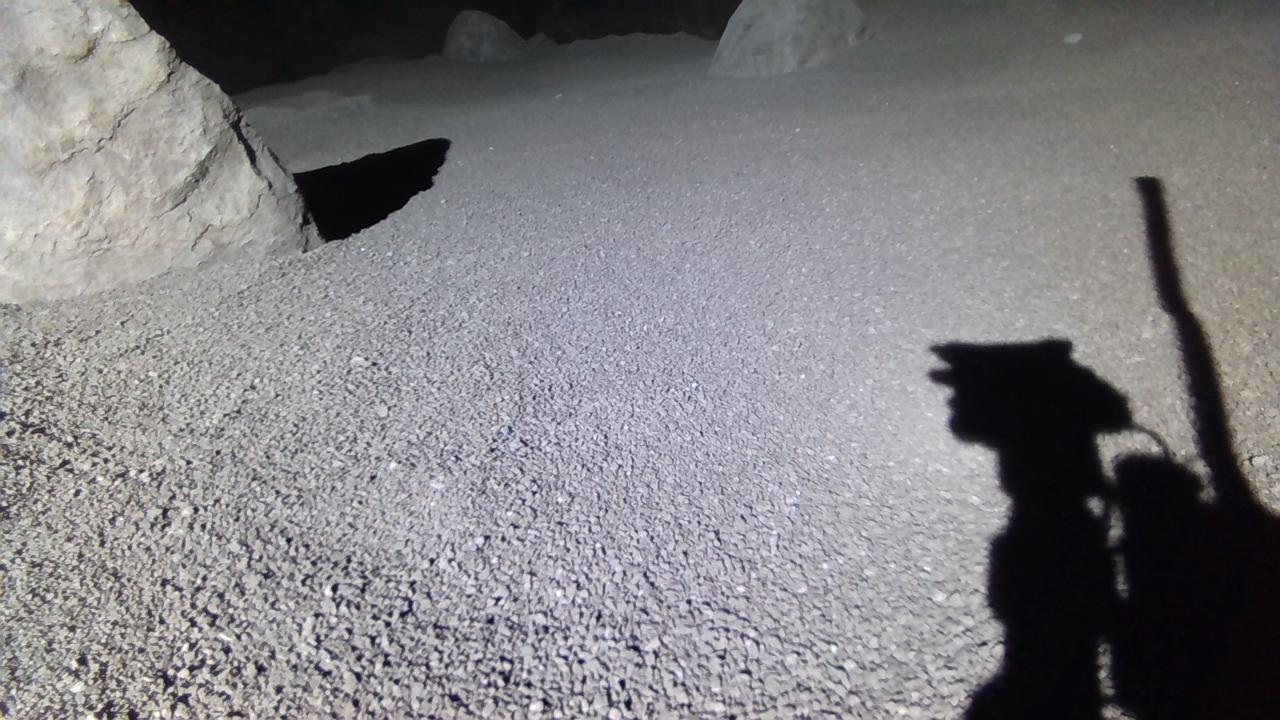rock: (0, 0, 319, 301), (709, 0, 868, 74), (443, 8, 527, 60)
